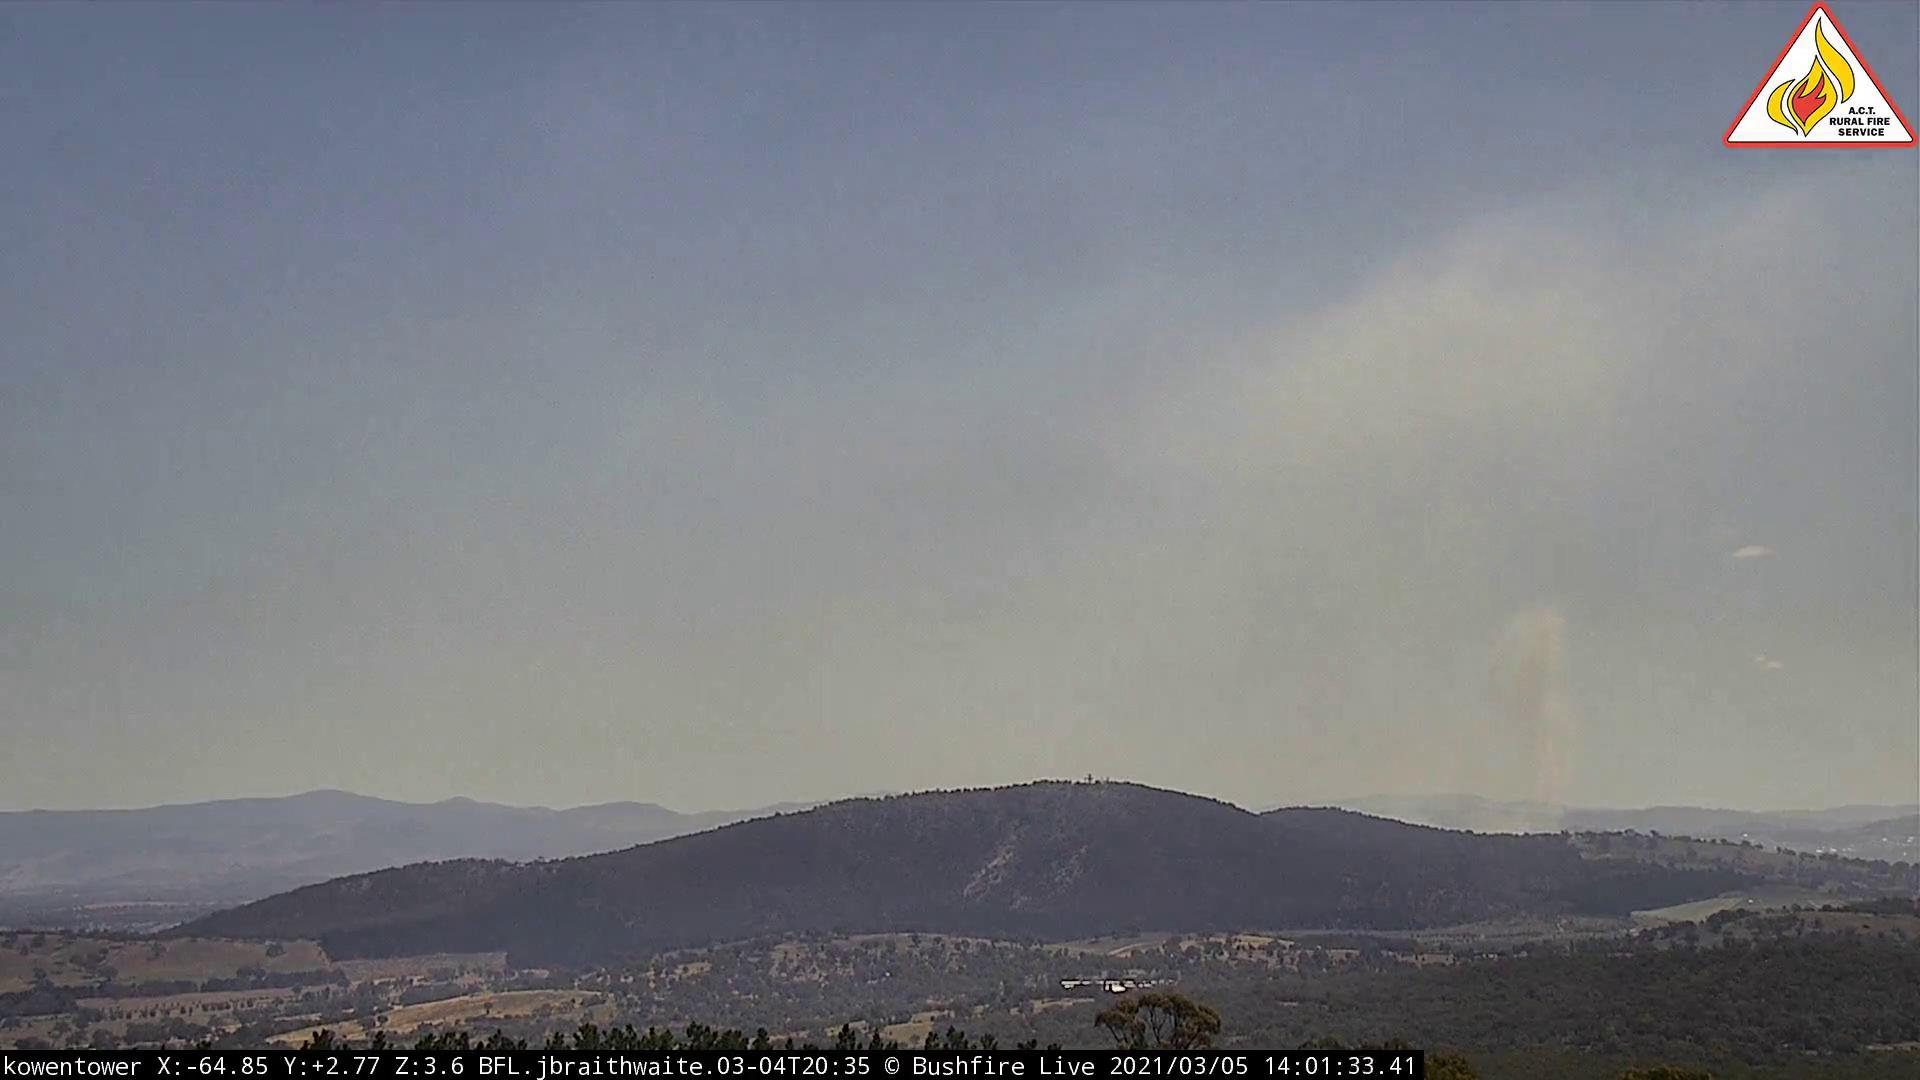Smoke: (1447, 589, 1626, 832)
